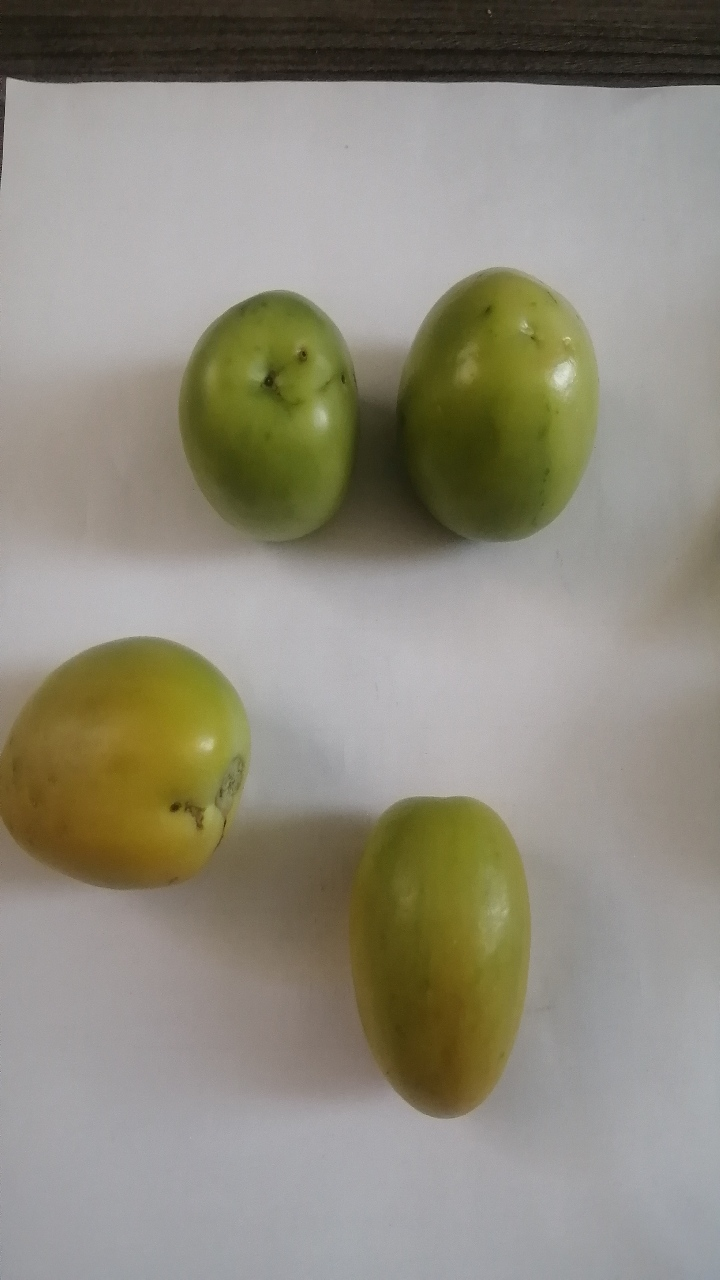tomateVerde: (334, 765, 552, 1139), (363, 245, 615, 563), (3, 614, 260, 925), (168, 255, 377, 580)
